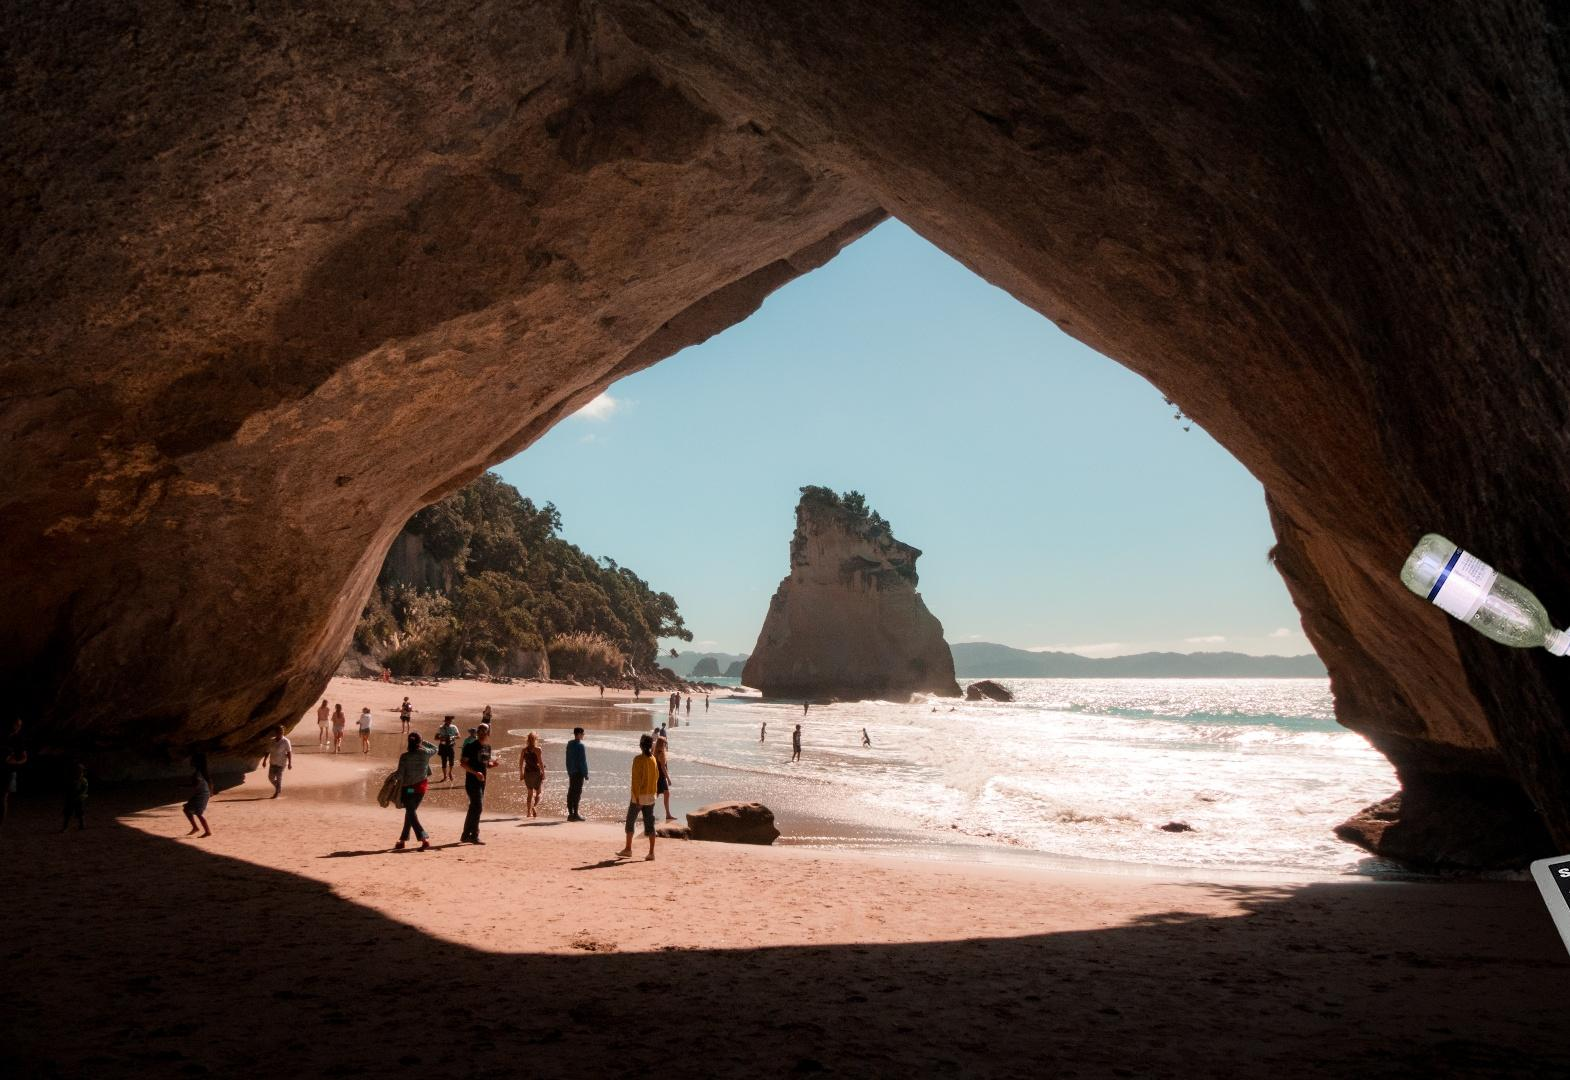battery: (1529, 832, 1570, 994)
plastic-bottles: (1393, 526, 1570, 664)
